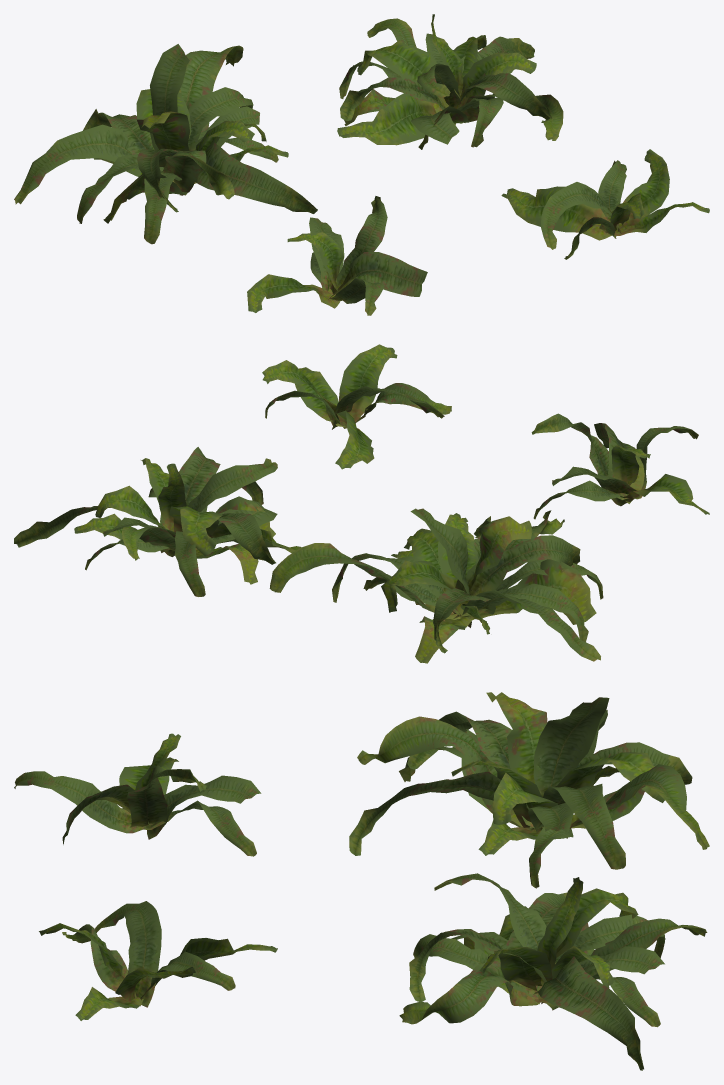
File: fern_02.glb
The picture shows the model from 3 angles, top to bottom: view 1: azimuth 30°, elevation 25°; view 2: azimuth 150°, elevation 25°; view 3: azimuth 270°, elevation 25°; orthographic projection. The views are drawn at different scales.
Parts seen in each view (by area): view 1: fern_02_b; view 2: fern_02_b; view 3: fern_02_b.
Boxes of the visible parts, <box> form: fern_02_b: <box>14,14,709,315</box>; fern_02_b: <box>14,344,709,663</box>; fern_02_b: <box>14,692,709,1070</box>.
Bounding box in the file's own units: 1.97 × 0.4277 × 1.72.
Materials: 1 (1 with a texture image).
